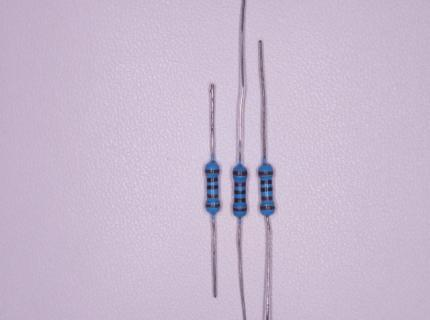Black band: (260, 179, 272, 185), (207, 185, 219, 190), (234, 198, 246, 203), (261, 187, 273, 192), (234, 190, 245, 195), (207, 178, 218, 182)
Brown band: (259, 170, 274, 176), (233, 170, 247, 176), (205, 169, 220, 174), (260, 206, 275, 211), (233, 207, 247, 212), (261, 196, 273, 201), (205, 204, 220, 208), (234, 182, 246, 187), (207, 194, 219, 199)
